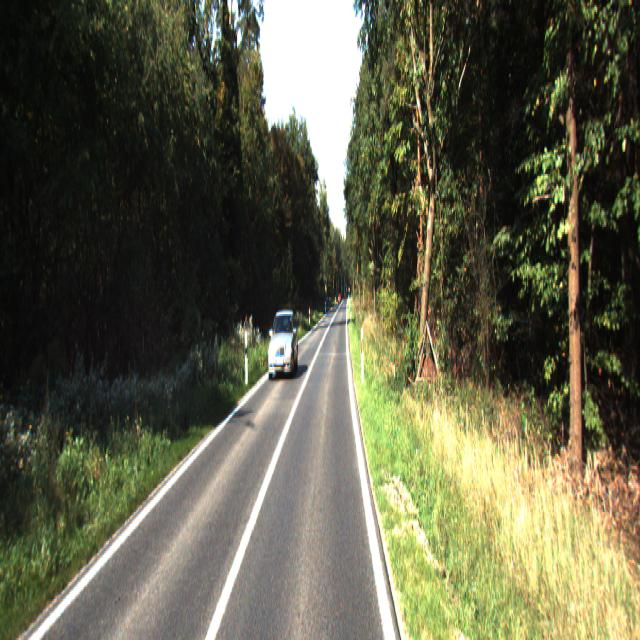Car: (266, 308, 300, 381)
